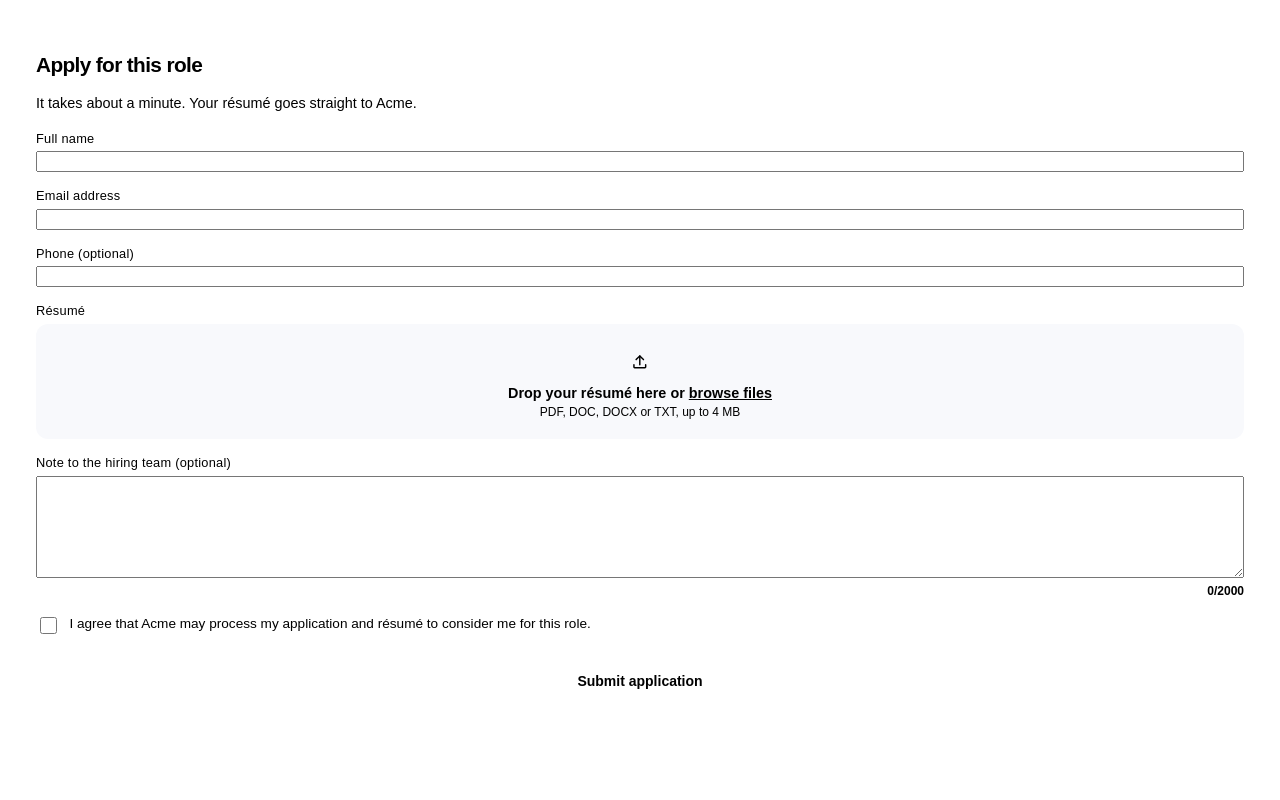
ApplyForm: client validation › names every missing field, focuses the first one and does not send anything
Click the button "Submit application" at (640, 681), box top-left (36, 657), bottom-right (1244, 705)
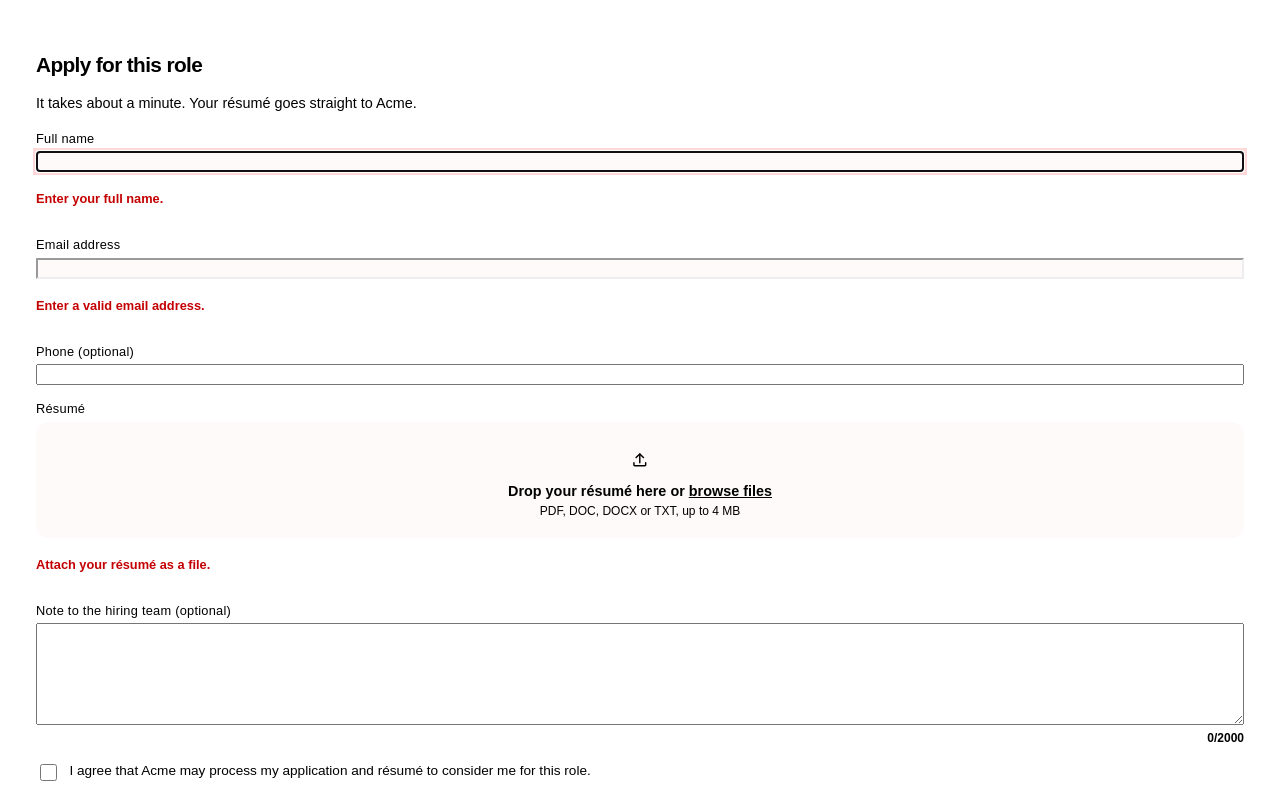
Expected: the text "Enter your full name." is shown, top-left (36, 192), bottom-right (163, 206)
Expected: the text "Enter a valid email address." is shown, top-left (36, 298), bottom-right (205, 313)
Expected: the text "Attach your résumé as a file." is shown, top-left (36, 557), bottom-right (210, 572)
